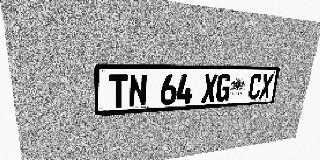4: (176, 74, 194, 104)
6: (160, 74, 178, 105)
C: (247, 74, 263, 100)
G: (215, 74, 232, 102)
N: (128, 74, 147, 107)
T: (108, 74, 128, 108)
X: (201, 74, 218, 103), (259, 74, 274, 99)
